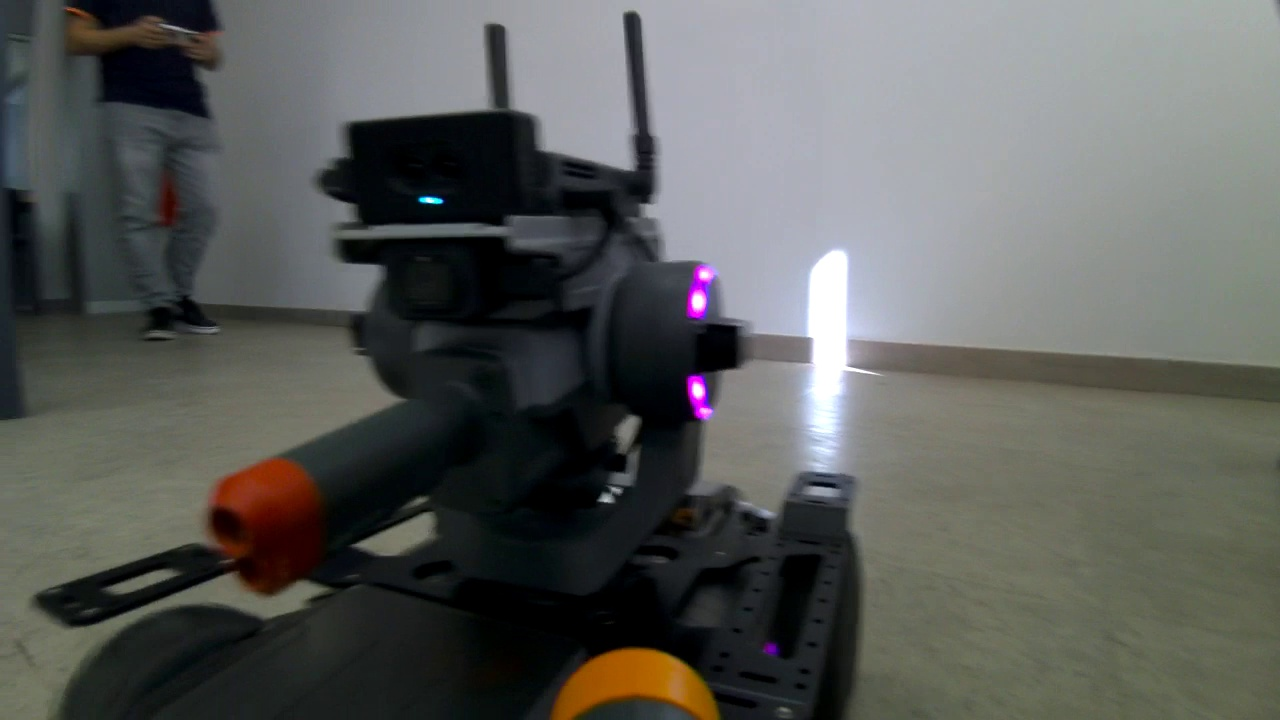robot: (110, 116, 858, 720)
